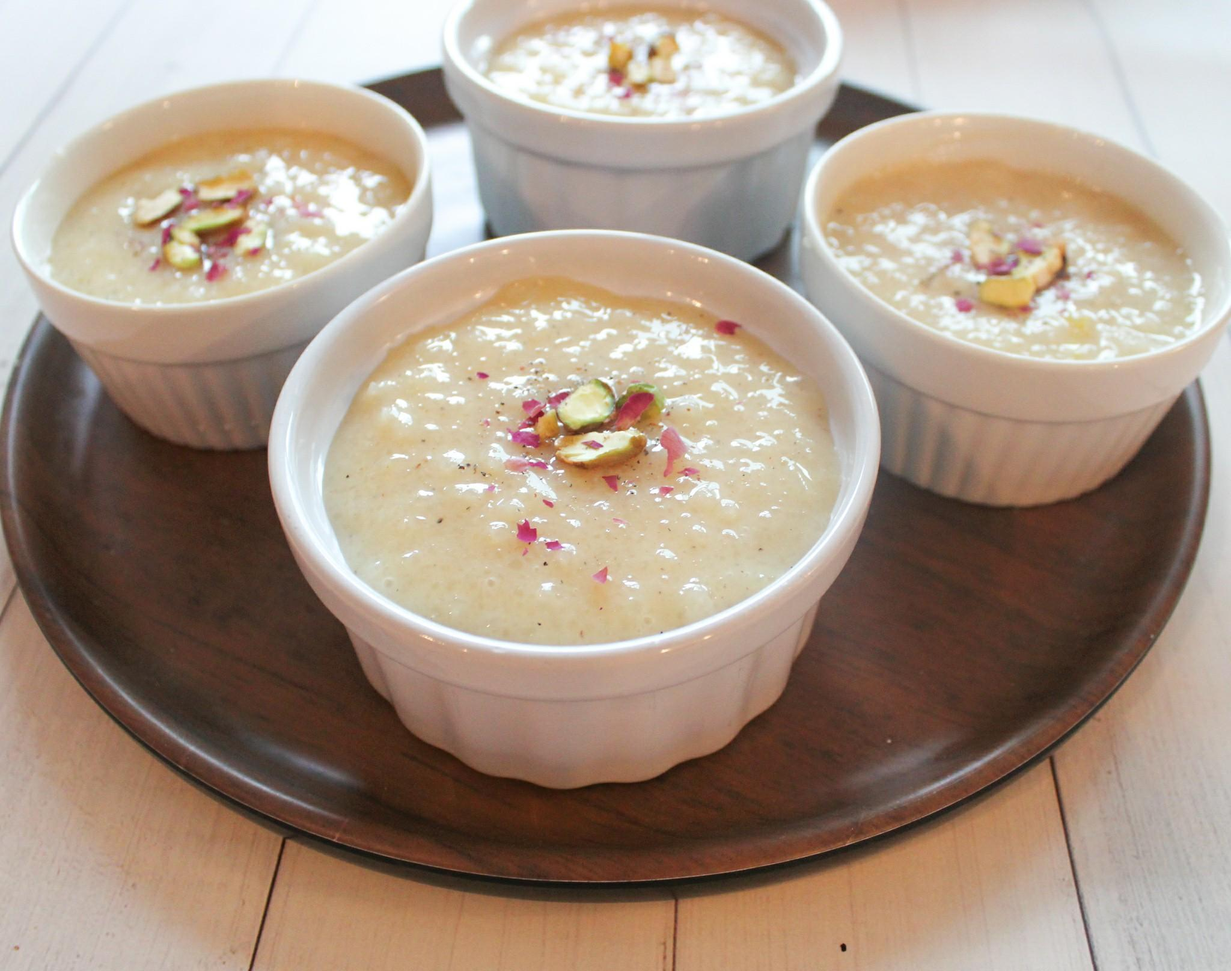Kheer: (329, 271, 838, 647), (838, 164, 1201, 357), (55, 133, 410, 303), (478, 0, 796, 115)
